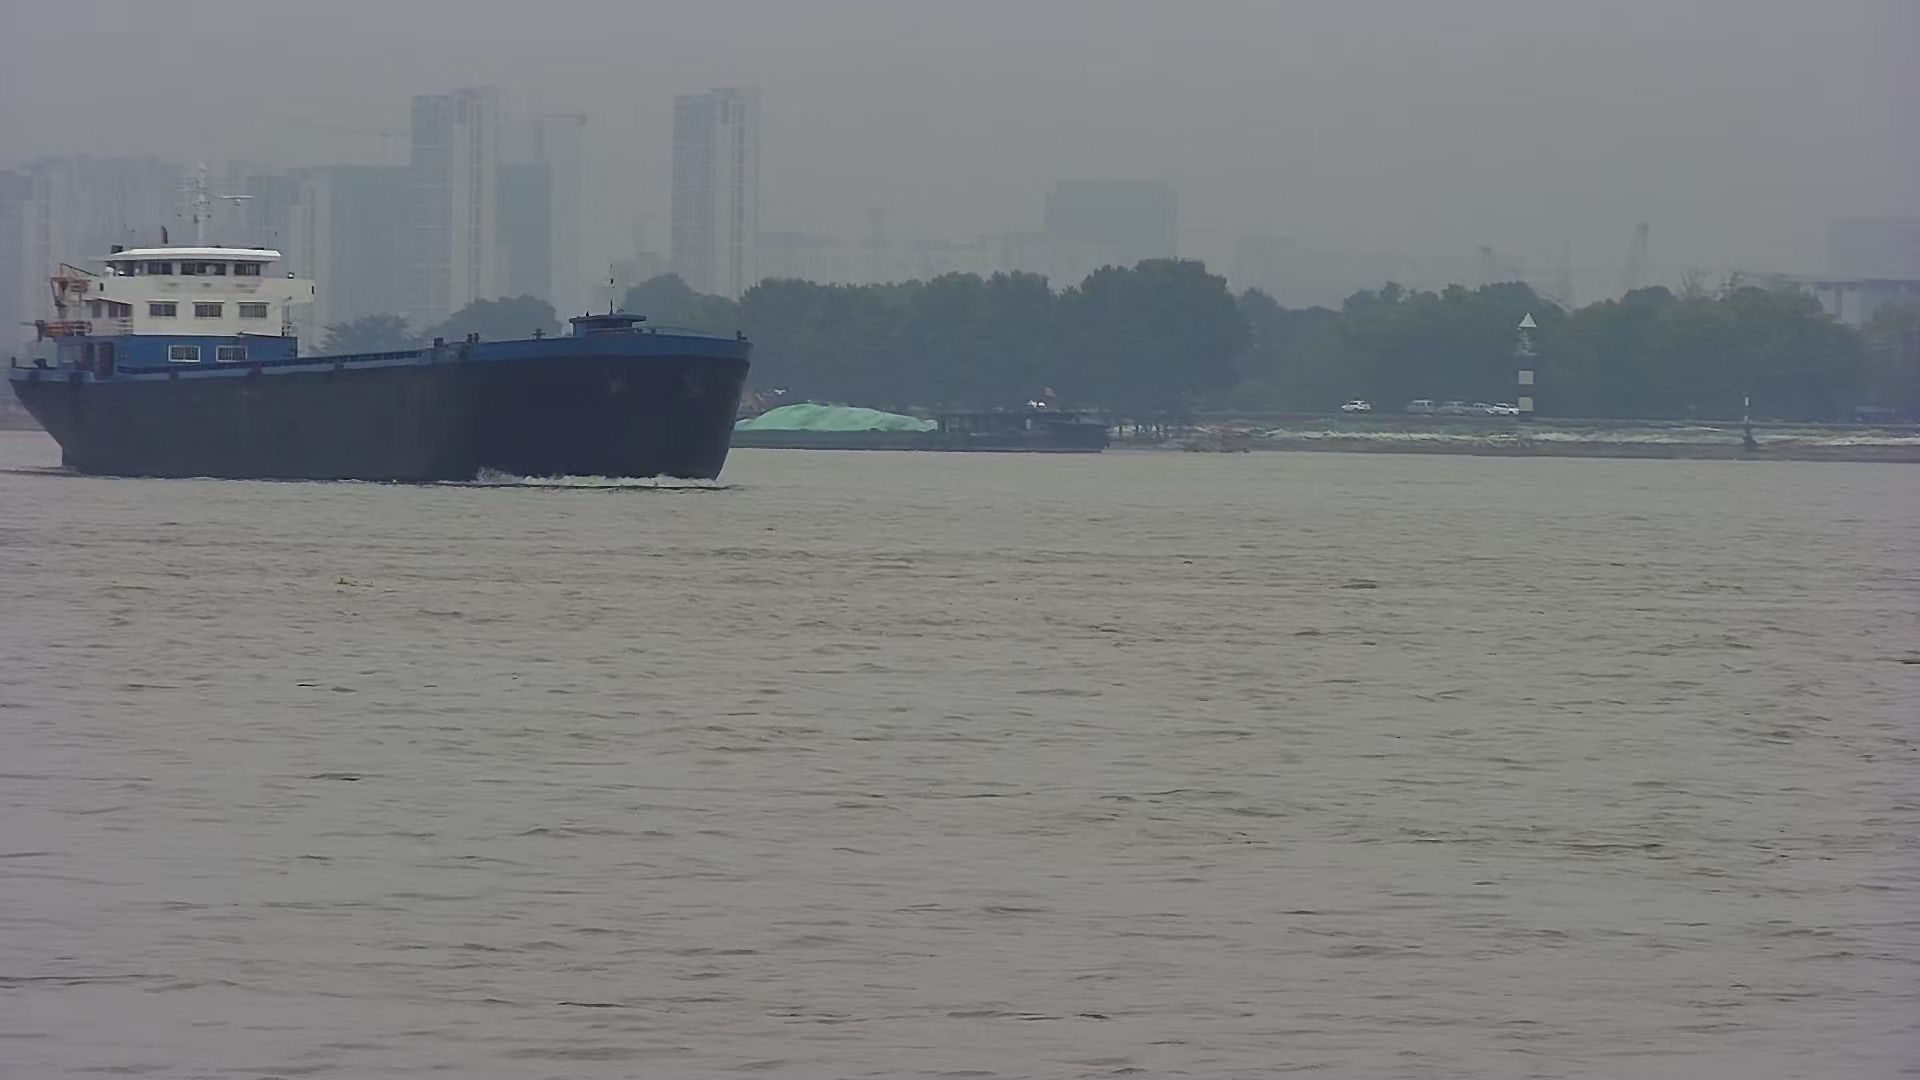ship: (1, 171, 756, 495), (716, 384, 1139, 469)
